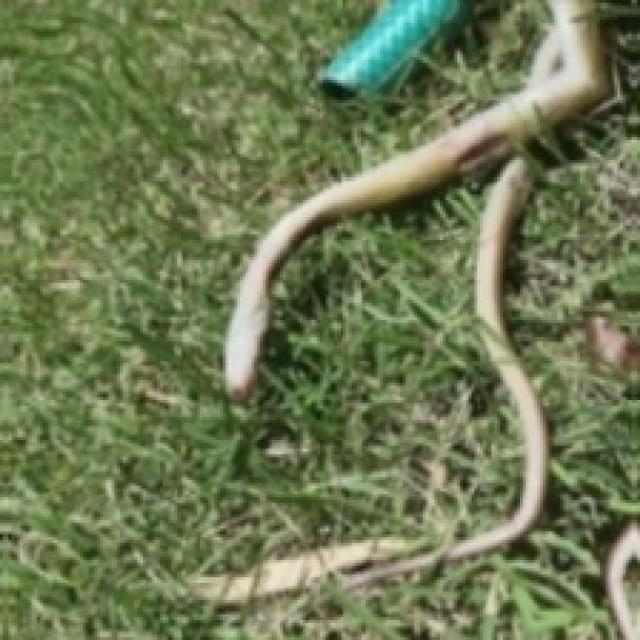reddish rat snake: (223, 0, 609, 397), (440, 157, 546, 557), (194, 540, 440, 603)
